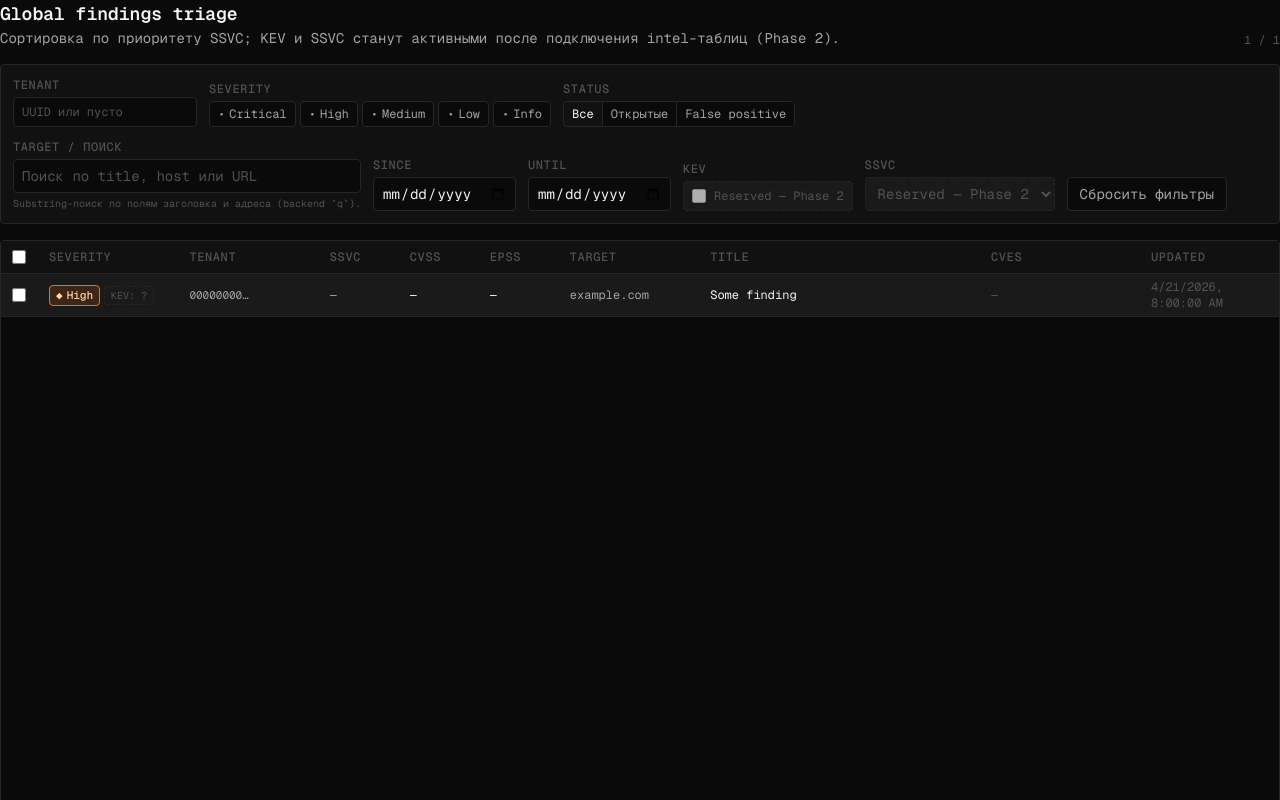
AdminFindingsClient — bulk actions (T21) › server-action failure (forbidden) renders a closed-taxonomy error banner inside the dialog
Click the checkbox in the row of "KEV: ?".
click(19, 295)  # box [12,288,26,302]
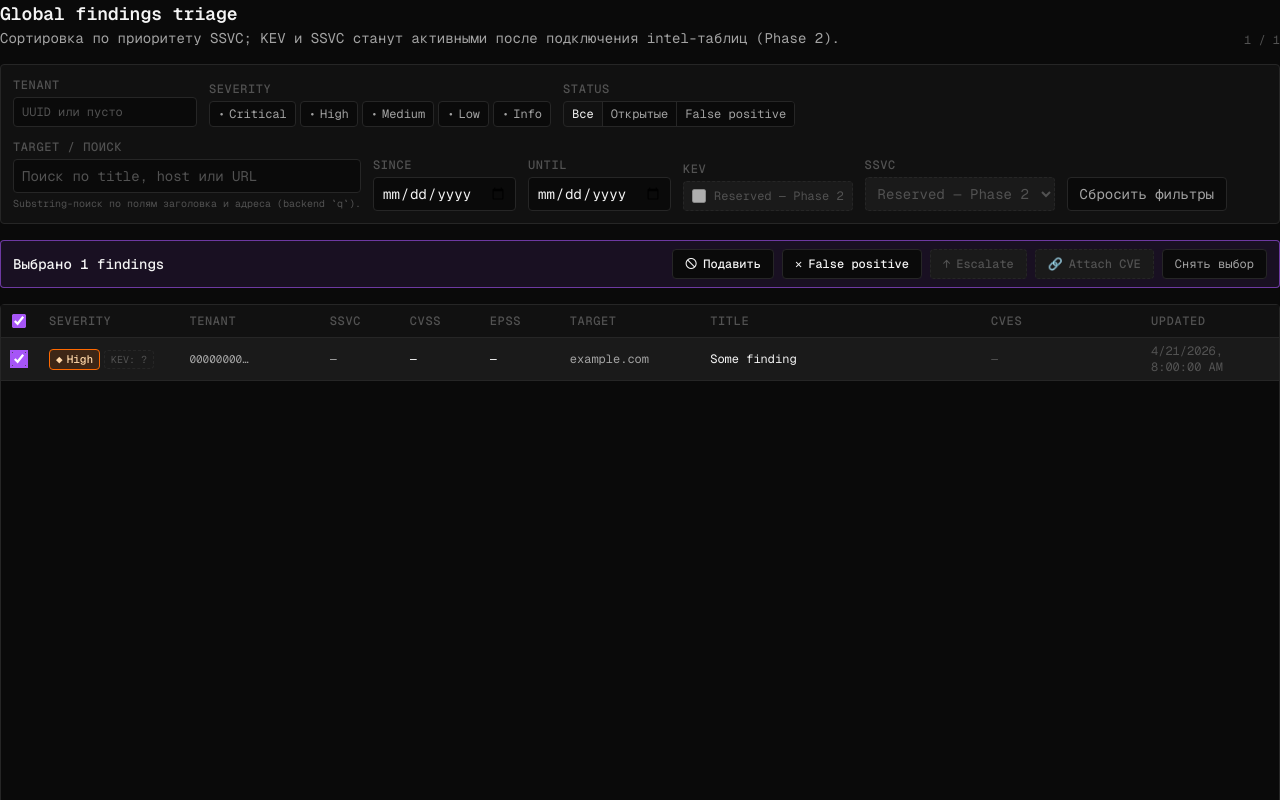
Click the button with test id "bulk-action-suppress".
click(723, 264)  # box [672,249,774,279]
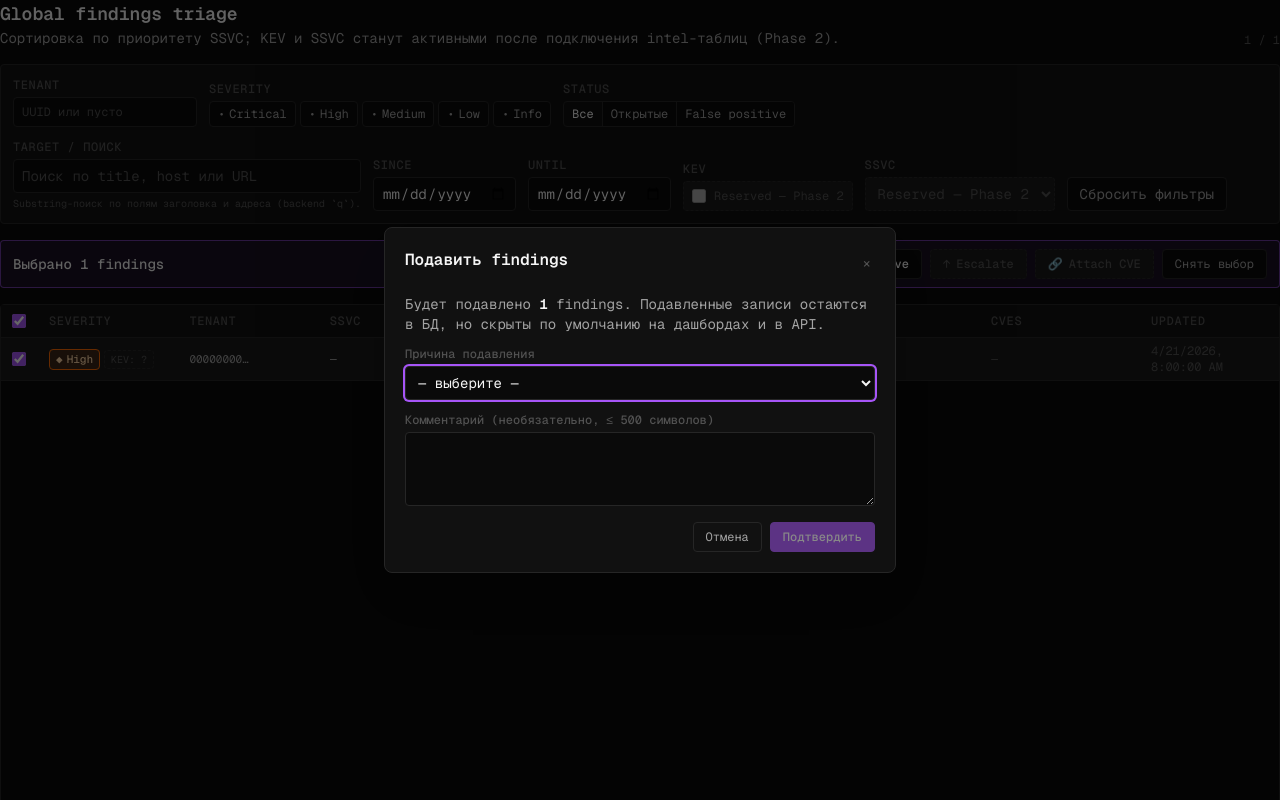
Select "Дубликат" in the dropdown with test id "bulk-suppress-reason" at (640, 383), box [405,366,875,400]
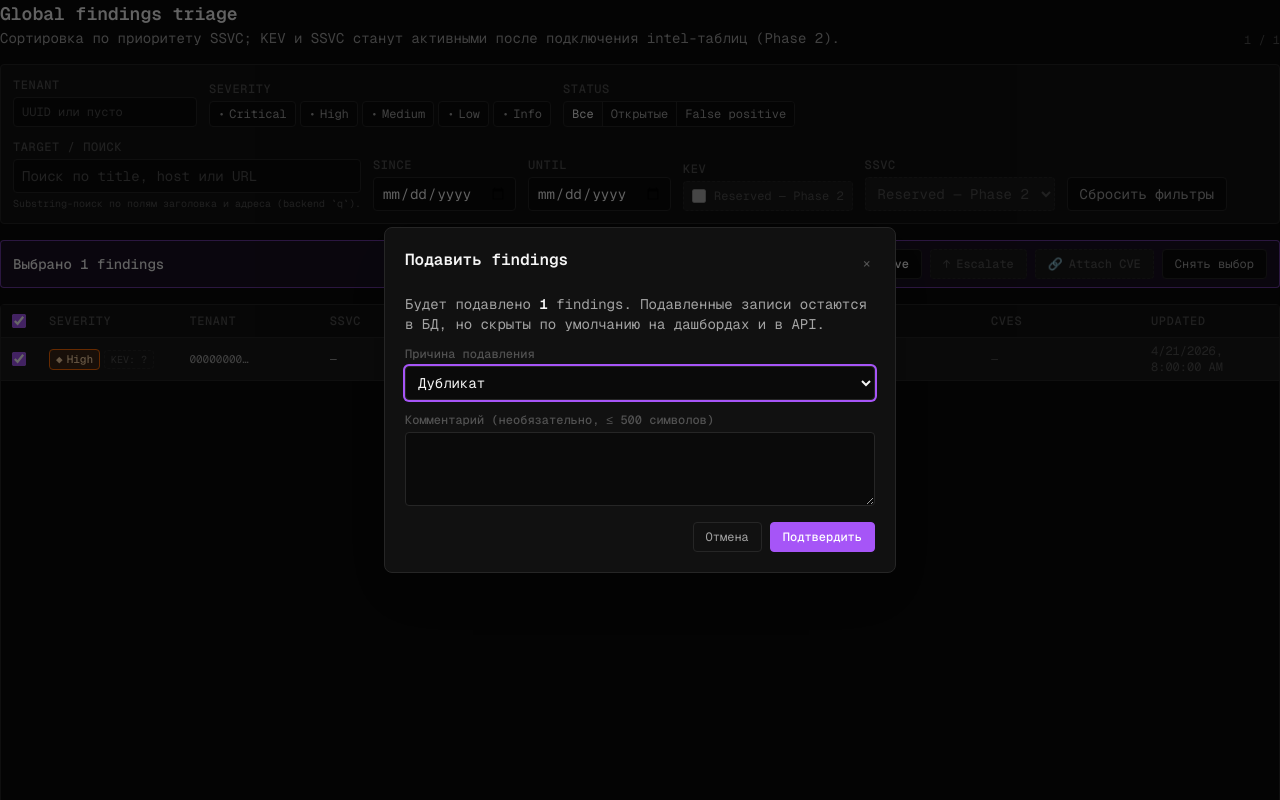
Click the button with test id "bulk-action-dialog-confirm".
click(822, 537)  # box [770,522,875,552]
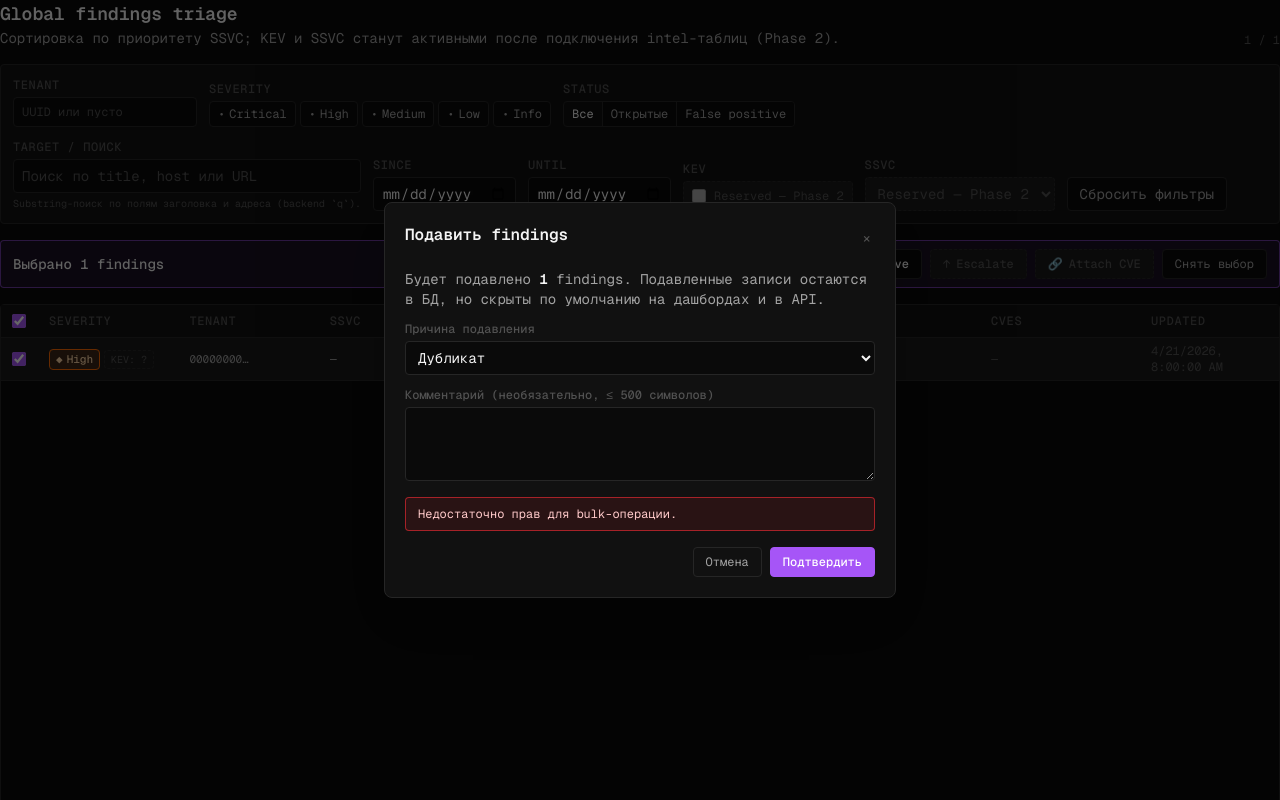
expect the message with test id "bulk-action-dialog-error" shows "Недостаточно прав": met, box [418,506,677,522]
